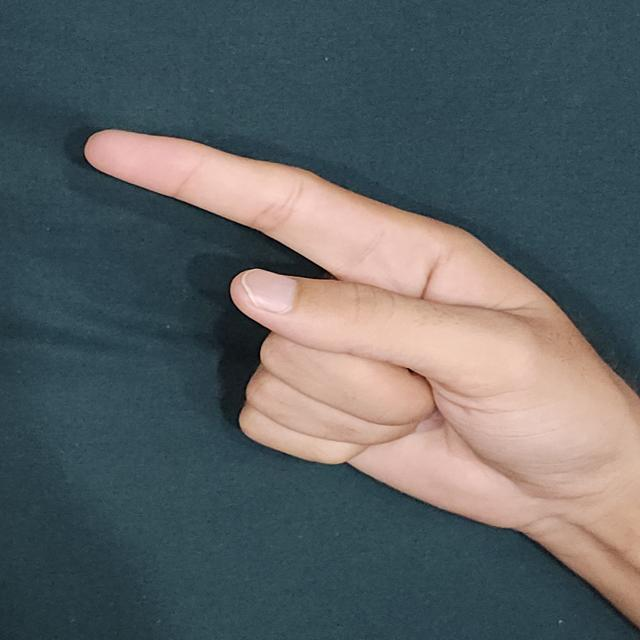ح: (61, 101, 548, 560)
